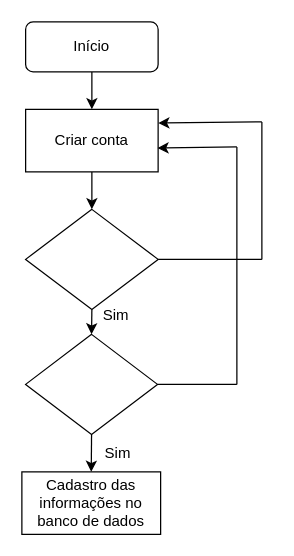
Image size: 294x556. Some labels were removed from this diagram. Each missing label, with the centre of its shape:
CPF já cadastrado?: pixel 91 383
Validar dados: pixel 91 258
